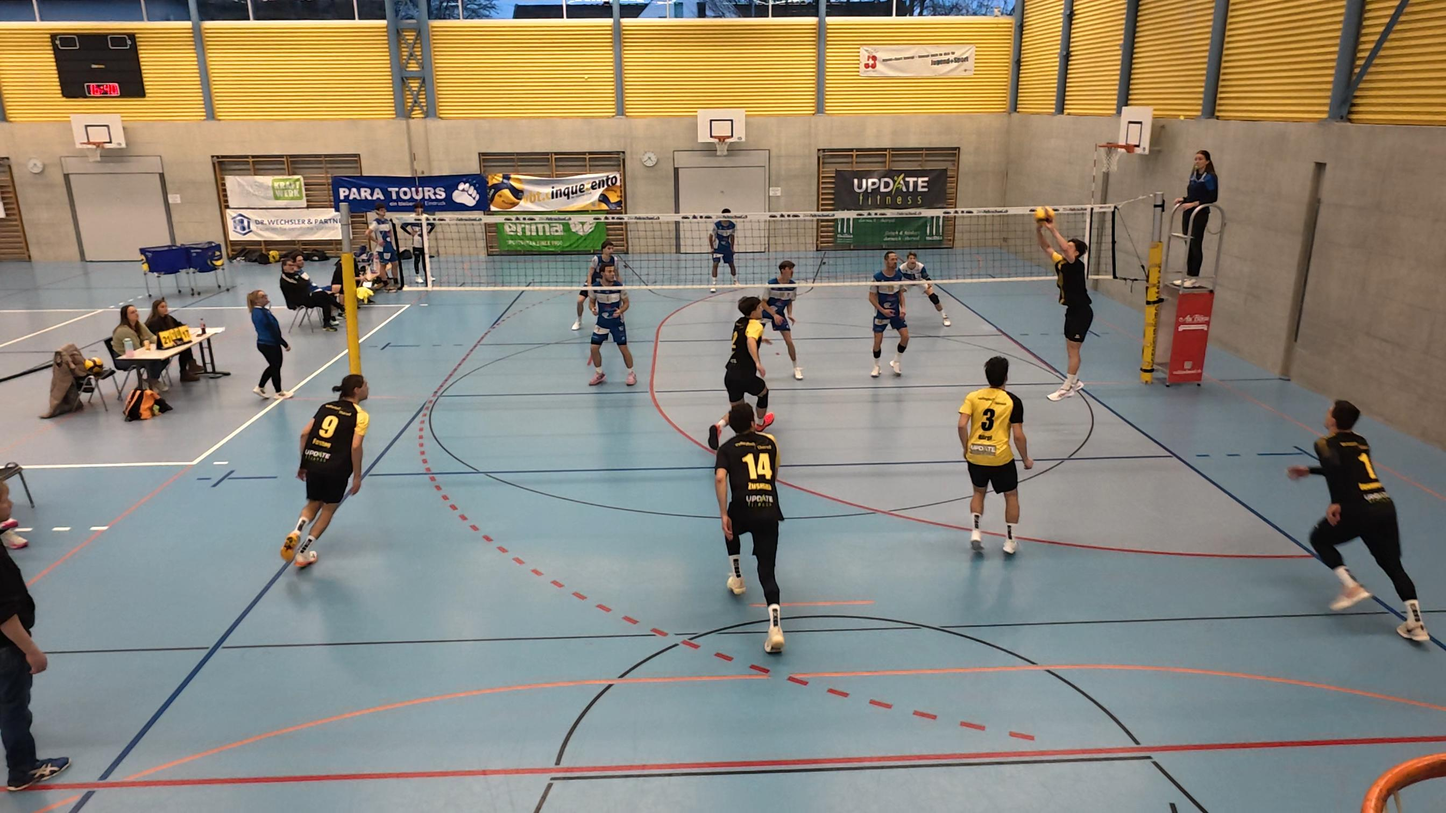Player: (1286, 398, 1435, 646), (708, 402, 787, 653), (279, 376, 370, 569), (957, 357, 1031, 554), (724, 295, 779, 434), (587, 275, 638, 388), (763, 258, 805, 379), (868, 259, 909, 378), (573, 244, 618, 335), (898, 249, 949, 323), (706, 208, 738, 289)
Set: (1037, 224, 1101, 406)
ball: (1033, 206, 1055, 222)
